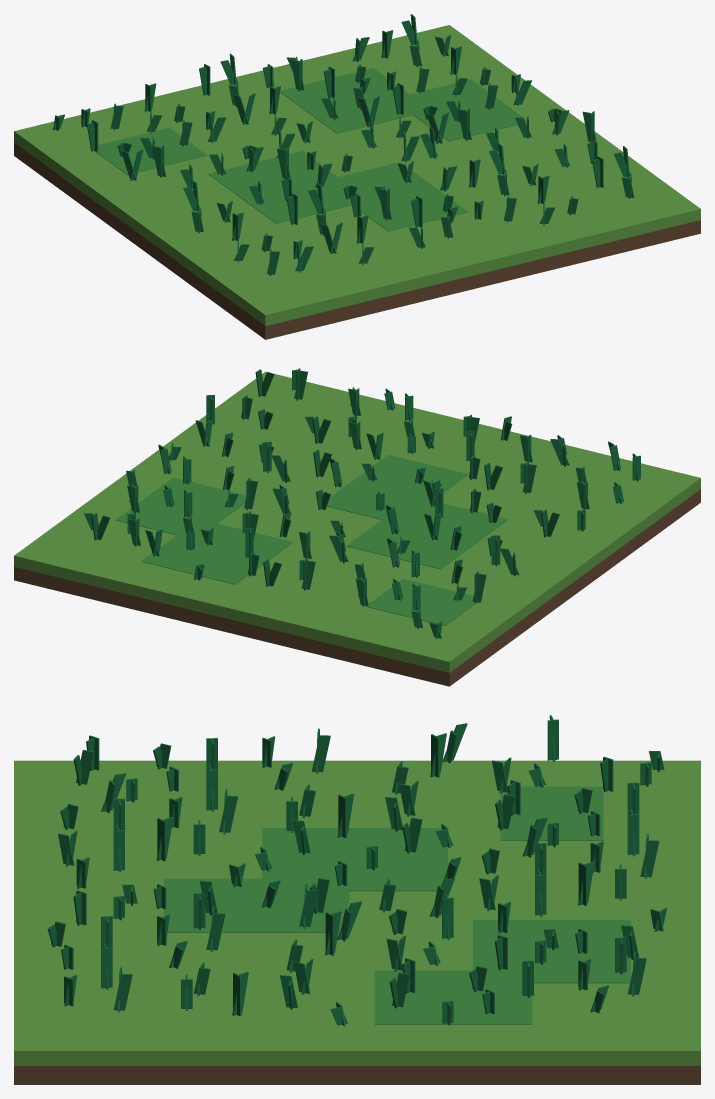
Rendered from GrassTile.glb.
3 renders of one model, top to bottom at view 1: azimuth 30°, elevation 25°; view 2: azimuth 150°, elevation 25°; view 3: azimuth 270°, elevation 25°, orthographic. The views are drawn at different scales.
Parts seen in each view (by area): view 1: Body; view 2: Body; view 3: Body.
Part boxes in pixels (x1,y1,x2,y2): Body: [14, 14, 700, 339]; Body: [14, 368, 700, 686]; Body: [14, 715, 700, 1084].
Size of the model in its own units: 6 by 0.8874 by 6.
